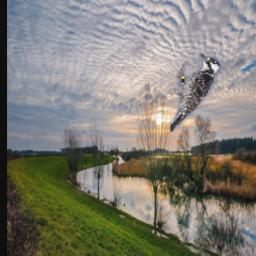Woodpecker: (169, 53, 221, 133)
